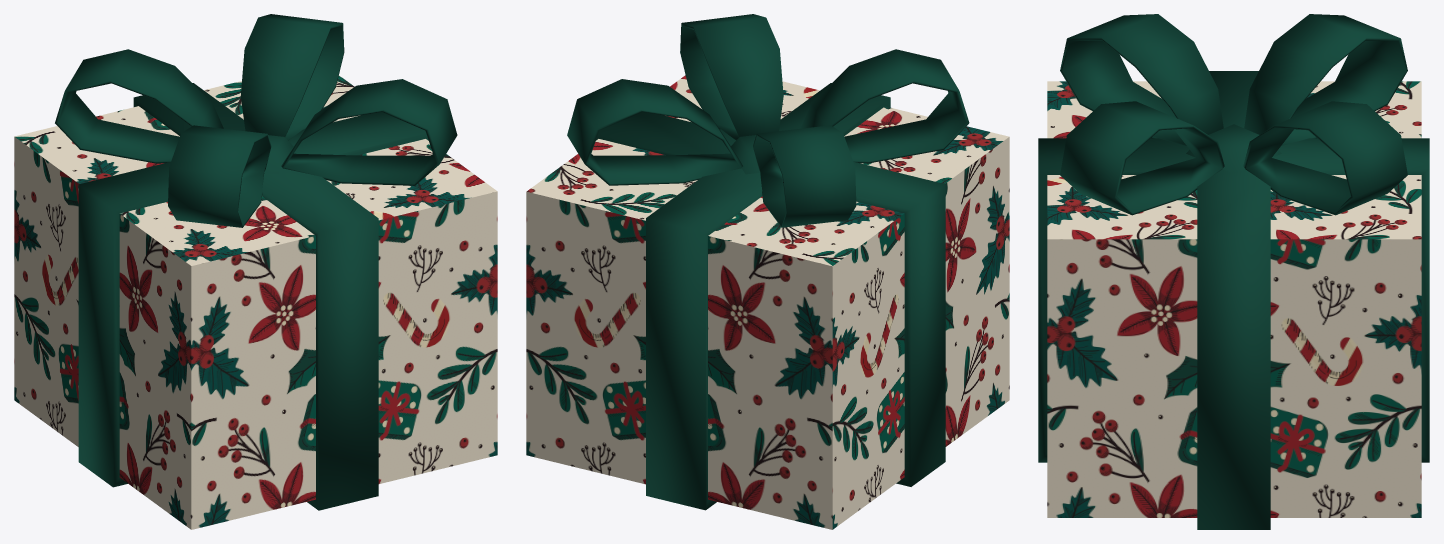
The model's file is giftBigWhite2.glb.
The picture shows the model from 3 angles, left to right: view 1: azimuth 30°, elevation 25°; view 2: azimuth 150°, elevation 25°; view 3: azimuth 270°, elevation 25°; orthographic projection. The views are drawn at different scales.
Visible parts, largest first — view 1: GiftBigWhite2; view 2: GiftBigWhite2; view 3: GiftBigWhite2.
Part boxes in pixels (x1=…): GiftBigWhite2: x1=14, y1=14, x2=497, y2=529; GiftBigWhite2: x1=526, y1=14, x2=1009, y2=529; GiftBigWhite2: x1=1038, y1=14, x2=1429, y2=529.
Size of what is drawn, in the model's own units: 0.9149 by 0.9717 by 0.9149.
Materials: 1 (1 with a texture image).
